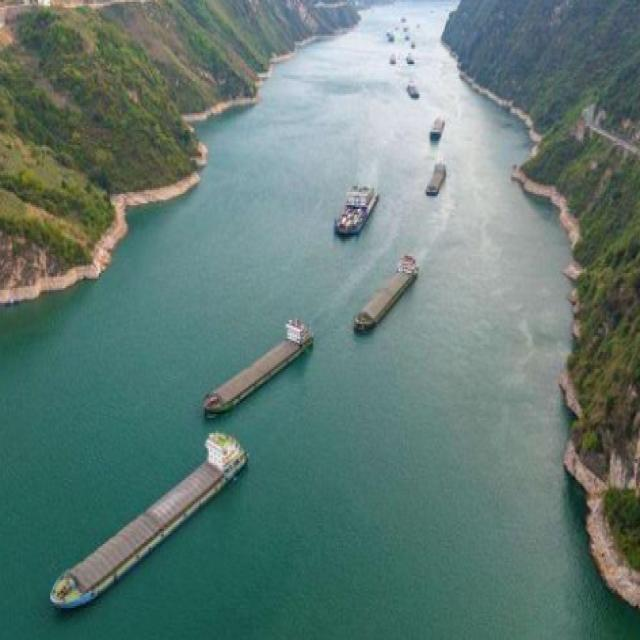cargoship: (46, 432, 250, 632), (200, 299, 317, 416), (352, 250, 425, 343), (325, 172, 379, 245), (419, 156, 446, 205), (429, 111, 446, 147)
